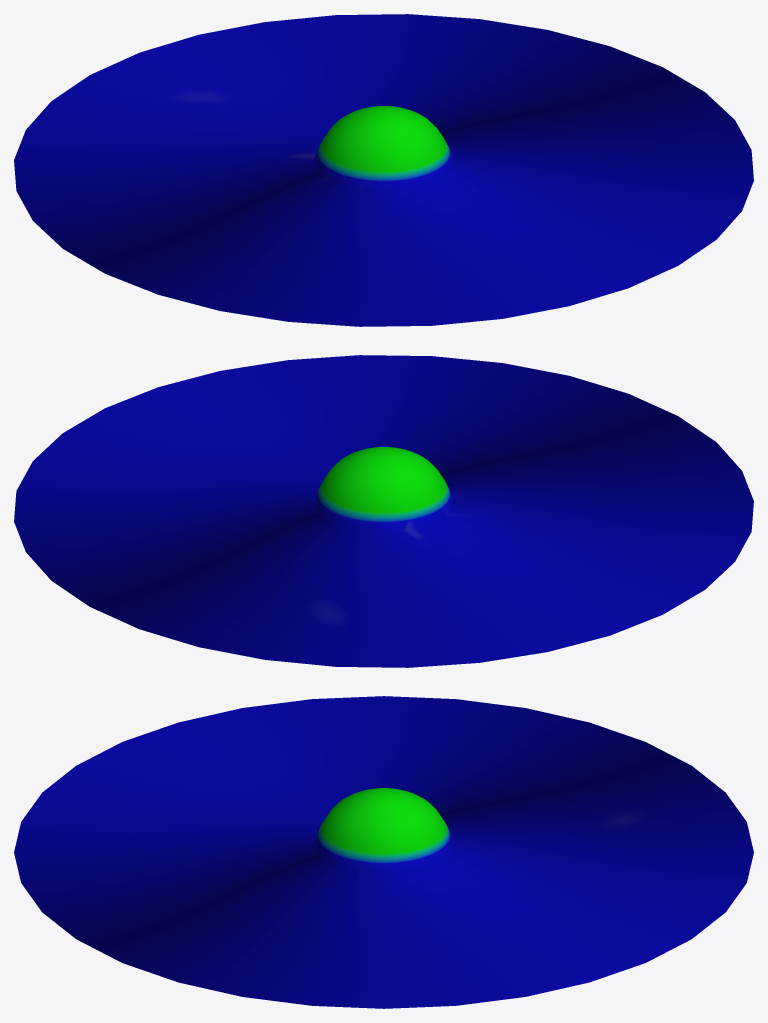
Rendered from Nova2.fbx.
3 renders of one model, top to bottom at view 1: azimuth 30°, elevation 25°; view 2: azimuth 150°, elevation 25°; view 3: azimuth 270°, elevation 25°, orthographic.
Visible parts, largest first — view 1: Circle; view 2: Circle; view 3: Circle.
Boxes of the visible parts, box(x1,y1,x2,y2) form: Circle: box(14, 14, 753, 326); Circle: box(14, 355, 753, 667); Circle: box(14, 696, 753, 1008).
Size of the model in its own units: 200 by 17.21 by 200.
